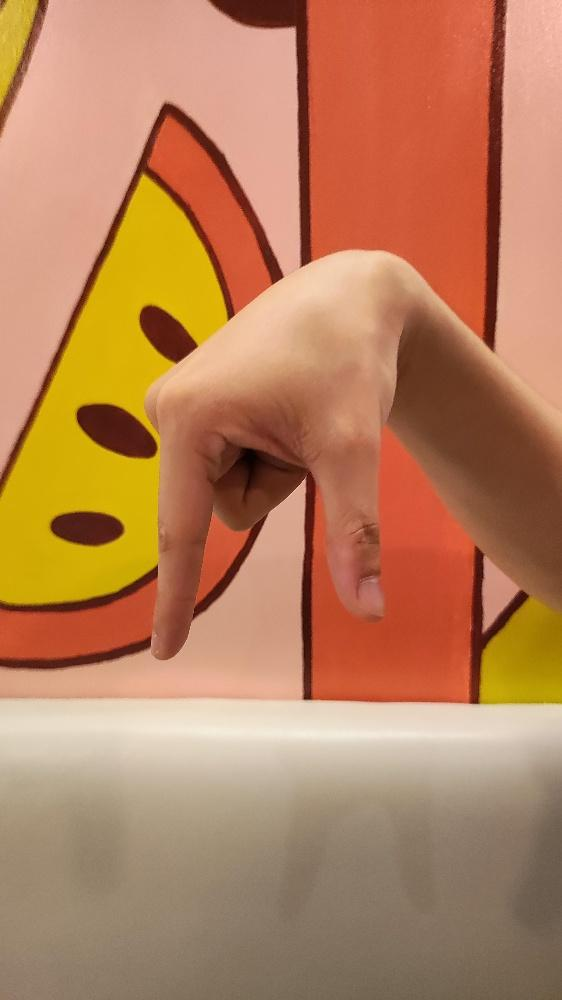q: (147, 247, 404, 663)
